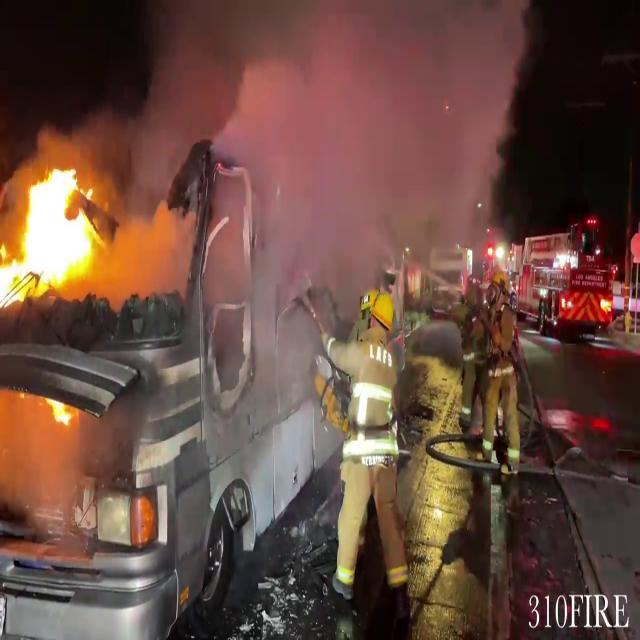Fire: (0, 163, 112, 304)
Smoke: (85, 0, 528, 302)
